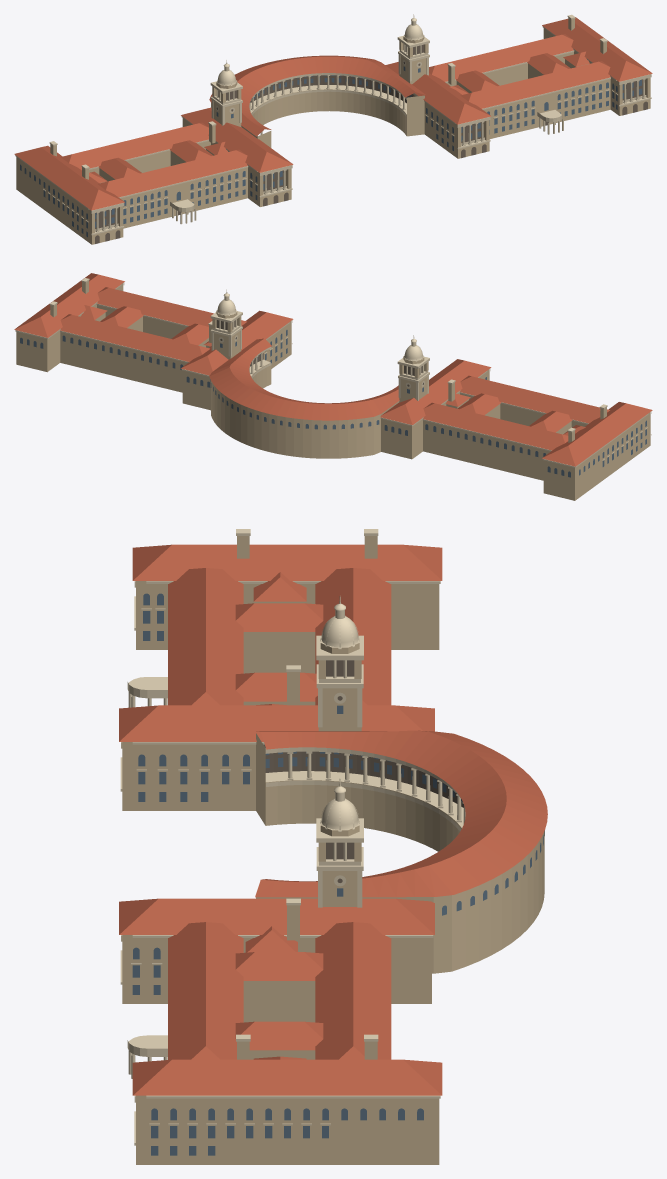
File: pretoria-union-buildings.detail.glb
3 views of the same model, one above another, from view 1: azimuth 30°, elevation 25°; view 2: azimuth 150°, elevation 25°; view 3: azimuth 270°, elevation 25° (orthographic). The views are drawn at different scales.
Visible parts, largest first — view 1: Union Buildings; view 2: Union Buildings; view 3: Union Buildings.
Part boxes in pixels (bbox=[...]): Union Buildings: bbox=[14, 14, 652, 244]; Union Buildings: bbox=[14, 273, 652, 500]; Union Buildings: bbox=[119, 529, 547, 1164].
Bounding box in the file's own units: 284 × 49.5 × 93.9.
